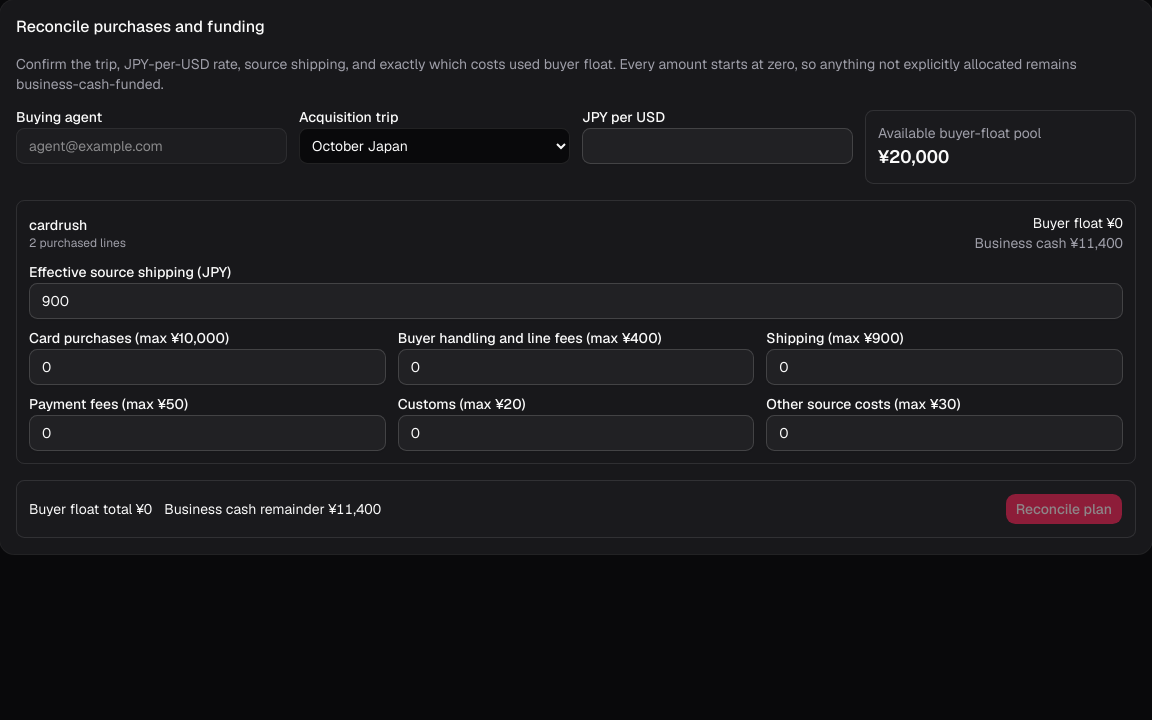
Test: PurchaseReconciliationPanel › refreshes changed facts and resets every allocation before mutation
Expected: the field labelled "Card purchases (max ¥10,000)" holds "0", 29,349 -> 386,385
In the field labelled "JPY per USD": {"x": 718, "y": 146} 582,128 -> 853,164, type "150"
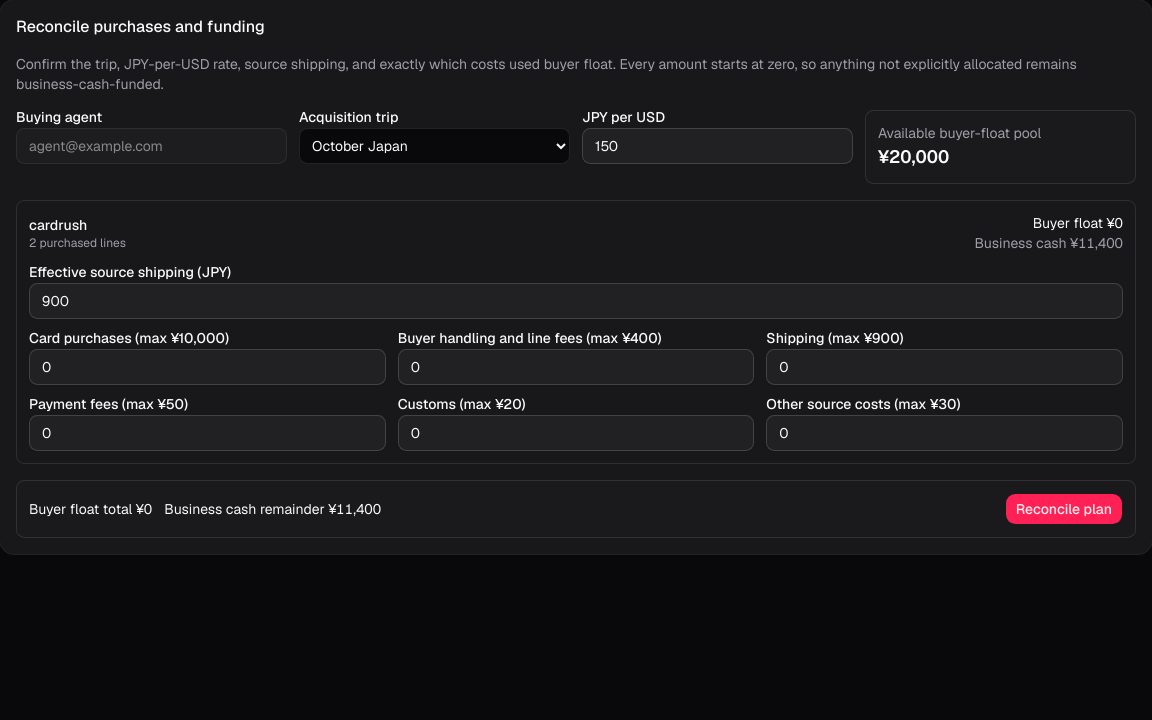
Replace the text in the field labelled "Card purchases (max ¥10,000)" with "8000": {"x": 207, "y": 367} 29,349 -> 386,385
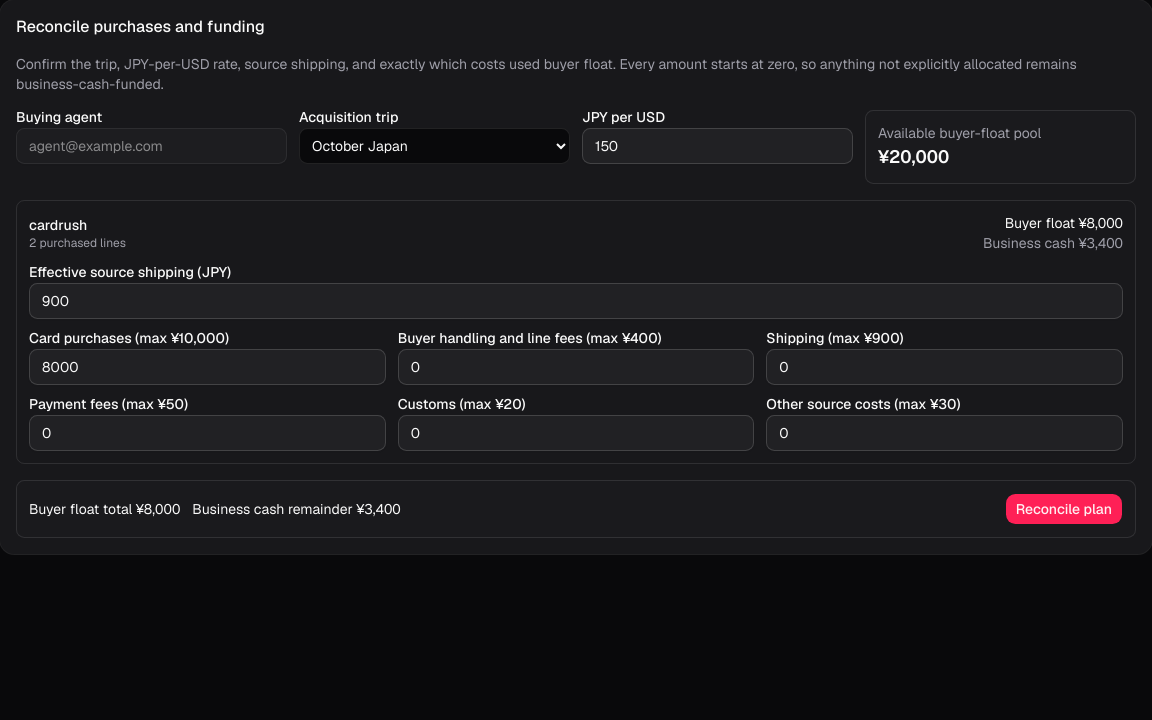
Replace the text in the field labelled "Buyer handling and line fees (max ¥400)" with "400": {"x": 576, "y": 367} 398,349 -> 754,385
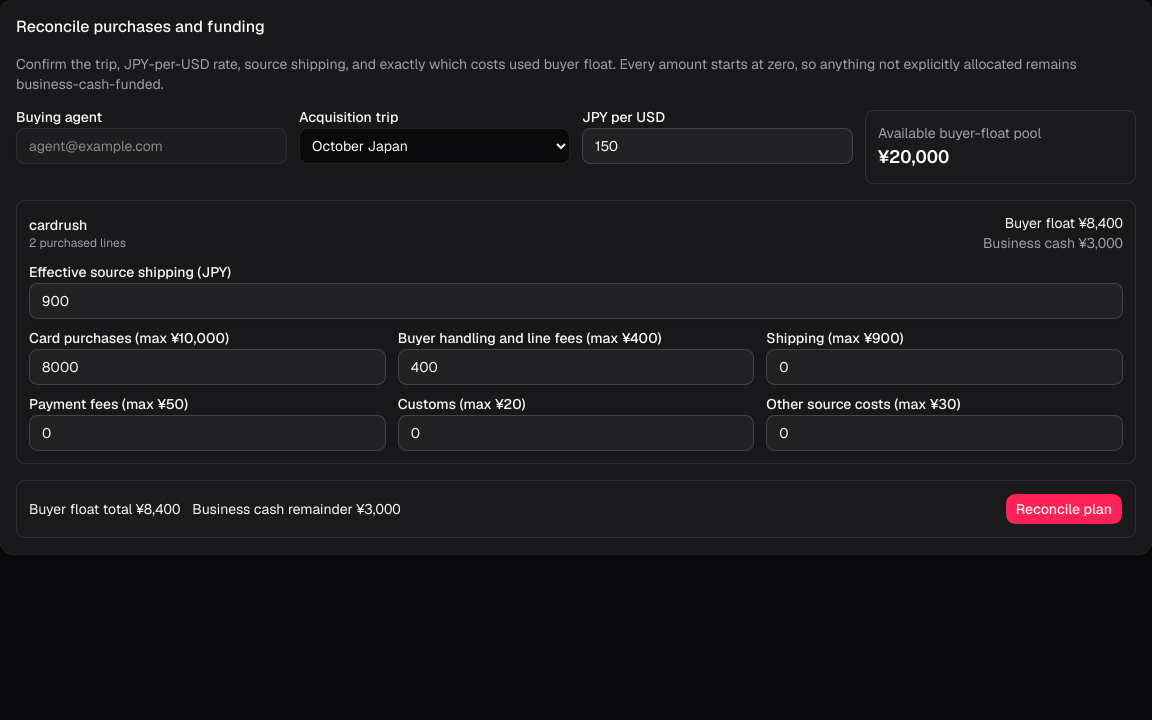
Replace the text in the field labelled "Shipping (max ¥900)" with "900": {"x": 945, "y": 367} 766,349 -> 1123,385
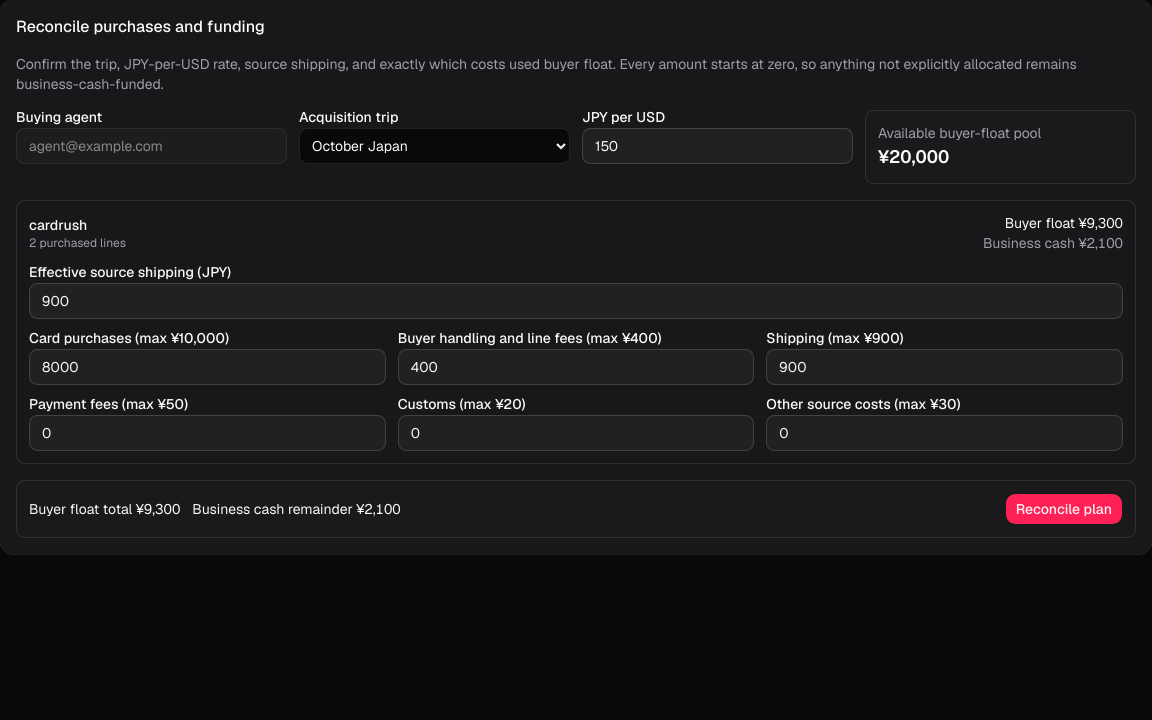
Click the button "Reconcile plan": {"x": 1064, "y": 509} 1005,493 -> 1123,525
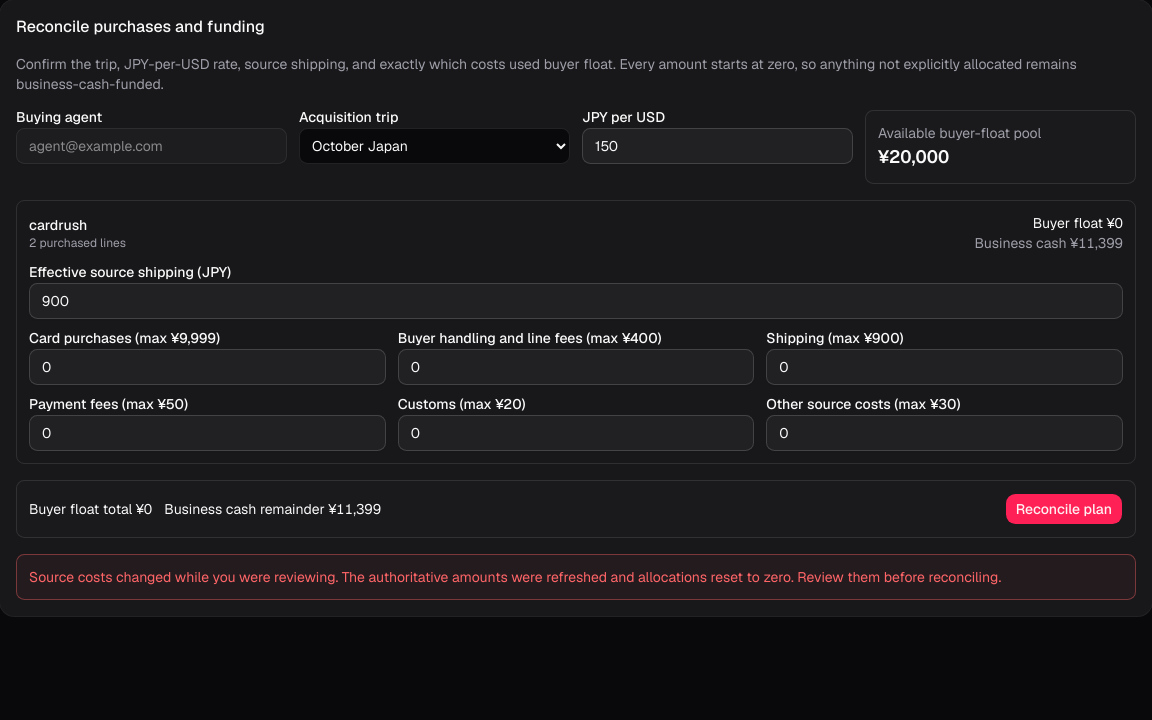
Now the message shows "Source costs changed", box 29,568 -> 1001,586
Now the field labelled "Card purchases (max ¥9,999)" holds "0", box 29,349 -> 386,385
